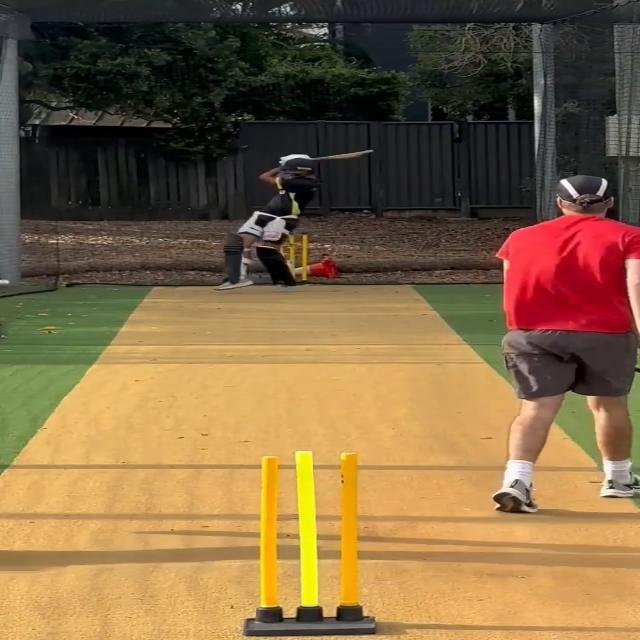ball: (0, 279, 11, 286)
stump: (242, 450, 378, 637)
